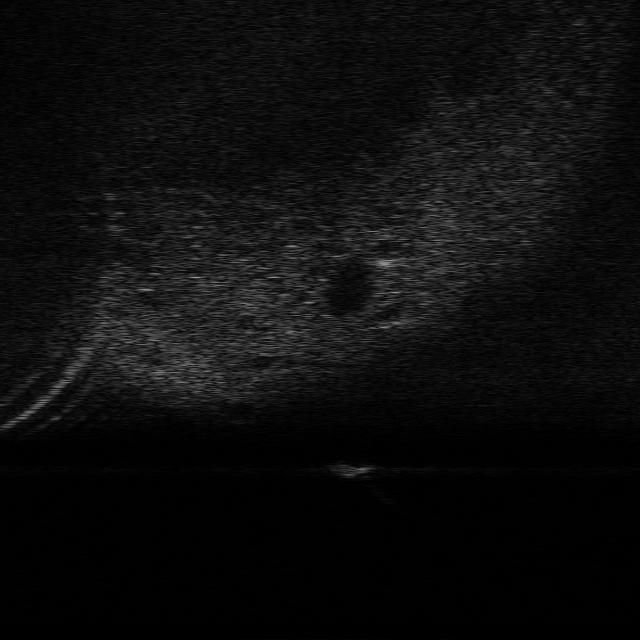cube: (328, 456, 383, 479)
